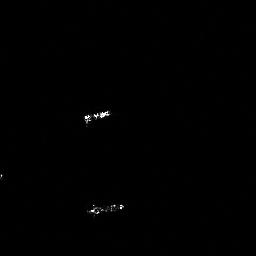ship: (83, 200, 129, 217), (79, 107, 113, 127)
